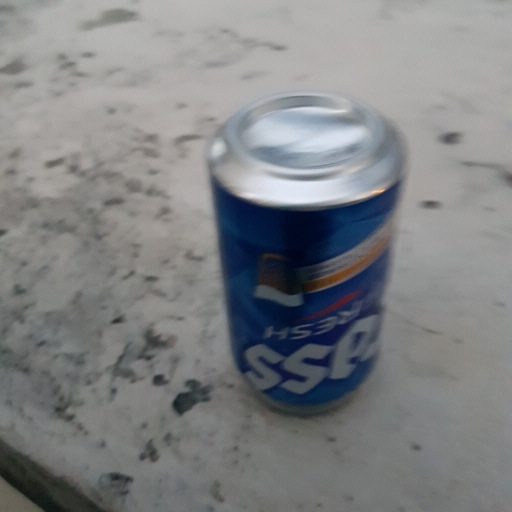Metal_0: (203, 86, 421, 415)
